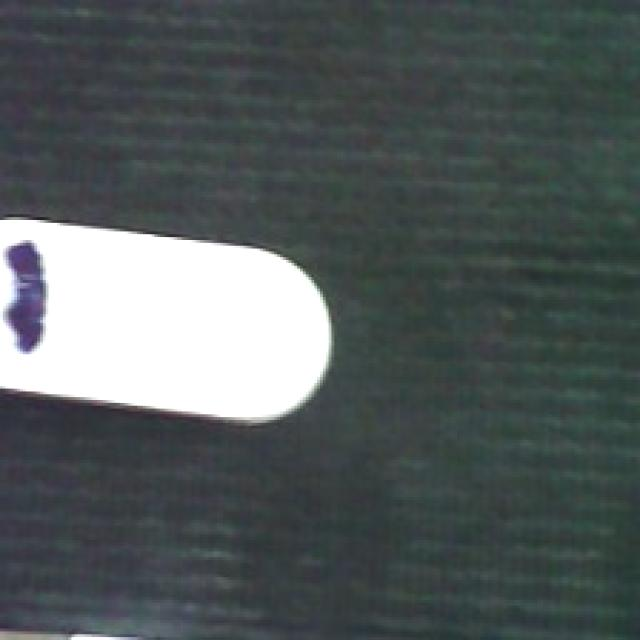defected: (0, 214, 334, 422)
